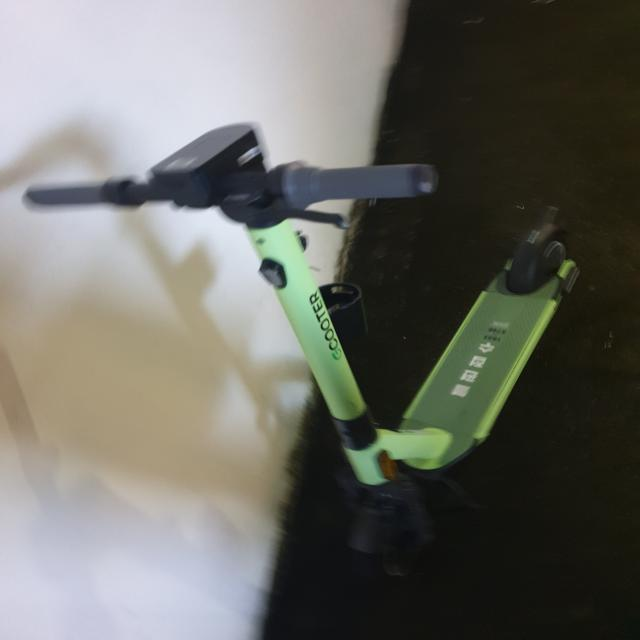bike: (20, 120, 584, 582)
